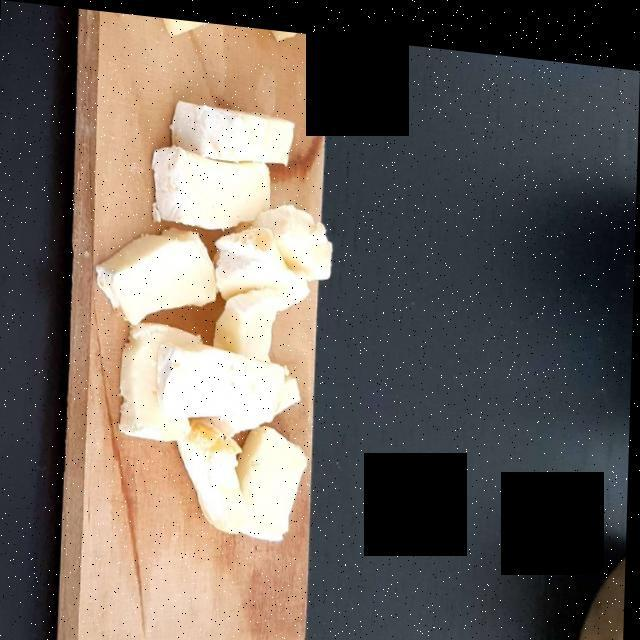cheese: (111, 107, 312, 511)
